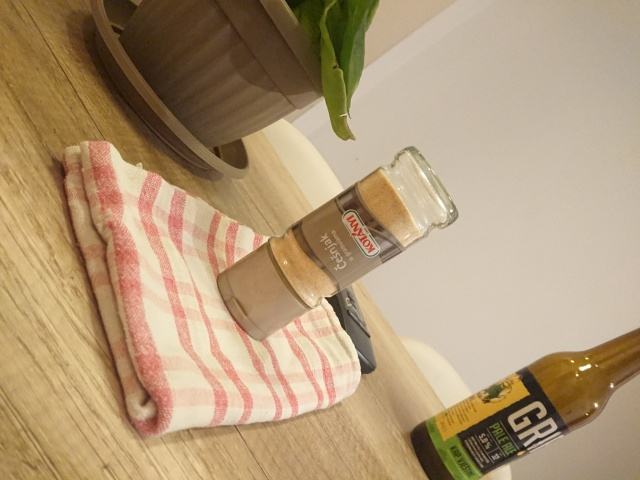Kotanyi Garlic Granules 70g: (213, 142, 463, 344)
